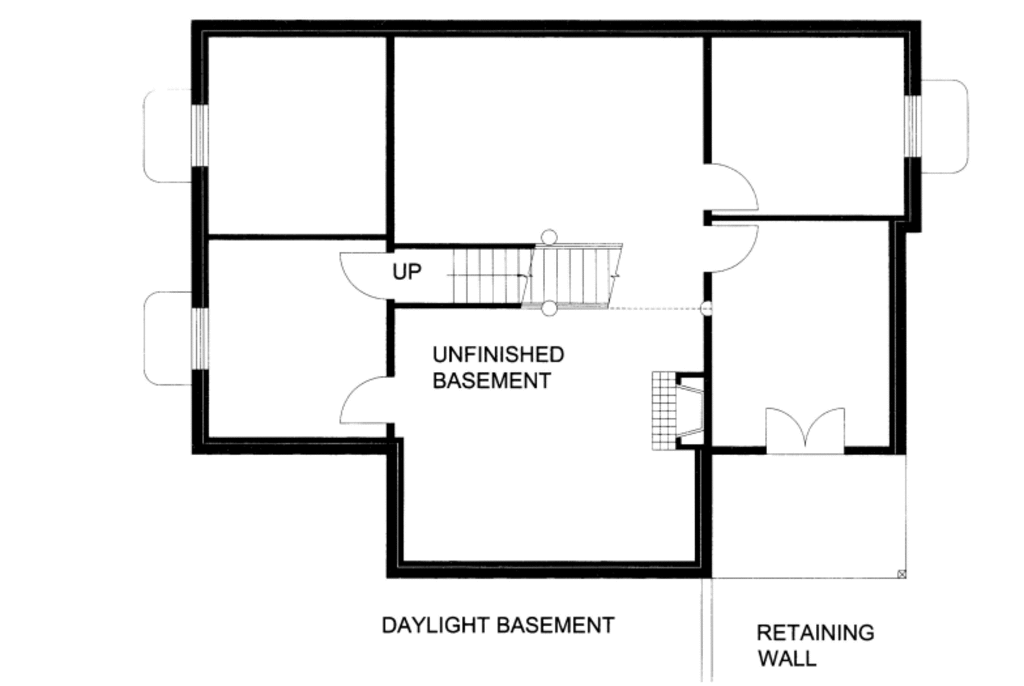door: (763, 404, 850, 453), (332, 246, 395, 302), (335, 373, 394, 426), (705, 155, 758, 213), (705, 221, 759, 277)
stairs: (415, 235, 635, 316)
window: (188, 305, 214, 373), (191, 103, 211, 169), (904, 94, 921, 159)
